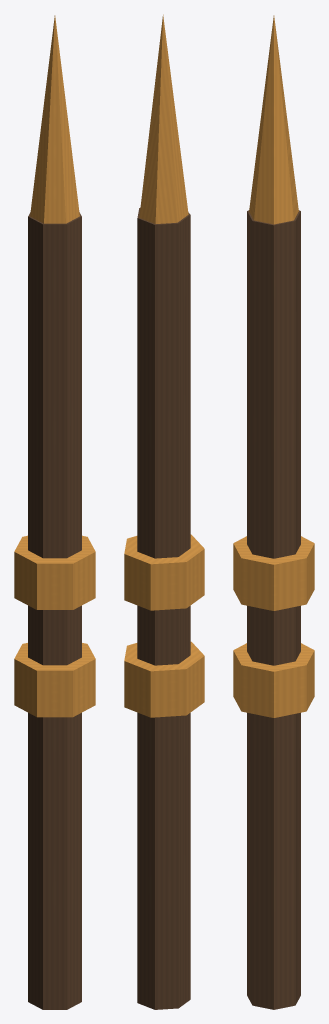
The model's file is atlas100-s014-a05.lod1.glb.
The picture shows the model from 3 angles, left to right: view 1: azimuth 90°, elevation 25°; view 2: azimuth 150°, elevation 25°; view 3: azimuth 270°, elevation 25°; orthographic projection.
Parts seen in each view (by area): view 1: atlas100-s014-a05:part-000, atlas100-s014-a05:part-004, atlas100-s014-a05:part-002, atlas100-s014-a05:part-003; view 2: atlas100-s014-a05:part-000, atlas100-s014-a05:part-004, atlas100-s014-a05:part-002, atlas100-s014-a05:part-003; view 3: atlas100-s014-a05:part-000, atlas100-s014-a05:part-004, atlas100-s014-a05:part-002, atlas100-s014-a05:part-003.
Part boxes in pixels (x1=…): atlas100-s014-a05:part-000: x1=28, y1=212, x2=81, y2=1009; atlas100-s014-a05:part-004: x1=30, y1=15, x2=79, y2=223; atlas100-s014-a05:part-002: x1=14, y1=643, x2=95, y2=717; atlas100-s014-a05:part-003: x1=14, y1=535, x2=95, y2=609; atlas100-s014-a05:part-000: x1=137, y1=208, x2=190, y2=1009; atlas100-s014-a05:part-004: x1=139, y1=14, x2=188, y2=223; atlas100-s014-a05:part-002: x1=124, y1=641, x2=204, y2=717; atlas100-s014-a05:part-003: x1=124, y1=534, x2=204, y2=610; atlas100-s014-a05:part-000: x1=247, y1=210, x2=300, y2=1009; atlas100-s014-a05:part-004: x1=249, y1=15, x2=298, y2=224; atlas100-s014-a05:part-002: x1=233, y1=643, x2=314, y2=717; atlas100-s014-a05:part-003: x1=233, y1=536, x2=314, y2=610.
Size of the model in its own units: 0.11 by 1.51 by 0.1128.
Materials: 2 (2 with a texture image).
